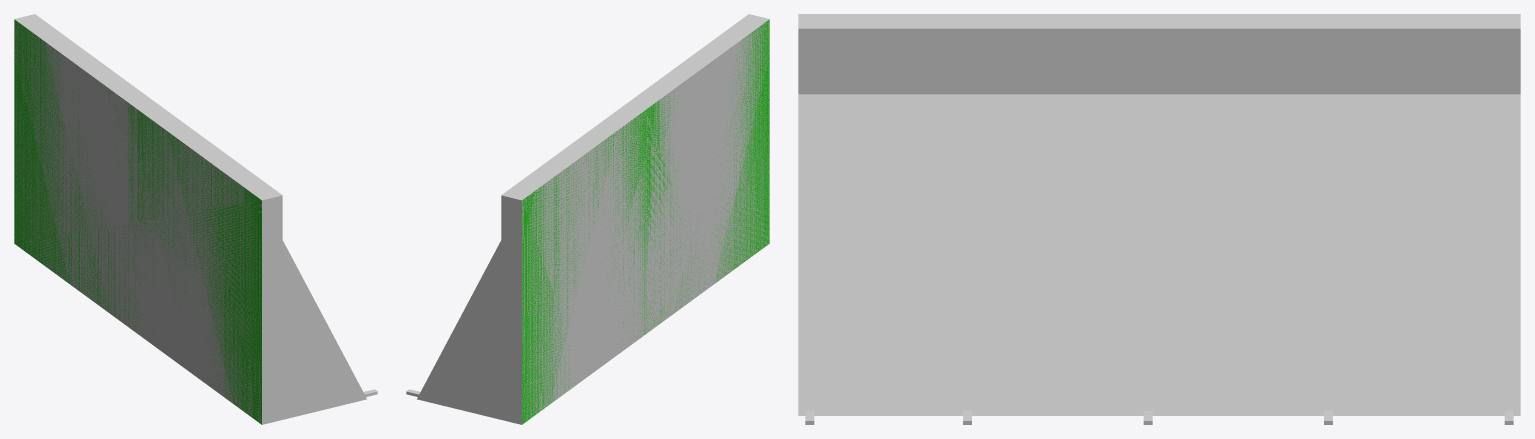
The model's file is greenscreen_8x4.dae.
3 views of the same model, side by side, from view 1: azimuth 30°, elevation 25°; view 2: azimuth 150°, elevation 25°; view 3: azimuth 270°, elevation 25° (orthographic). The views are drawn at different scales.
Parts seen in each view (by area): view 1: Colmesh-1, greenscreen_8x4_a200, greenscreen_8x4_a050; view 2: Colmesh-1, greenscreen_8x4_a200, greenscreen_8x4_a050; view 3: Colmesh-1, greenscreen_8x4_a200.
Part boxes in pixels (bbox=[...]): Colmesh-1: bbox=[14, 14, 366, 424]; greenscreen_8x4_a200: bbox=[14, 19, 377, 424]; greenscreen_8x4_a050: bbox=[14, 26, 260, 422]; Colmesh-1: bbox=[417, 14, 769, 424]; greenscreen_8x4_a200: bbox=[406, 19, 769, 424]; greenscreen_8x4_a050: bbox=[522, 116, 768, 414]; Colmesh-1: bbox=[798, 14, 1520, 415]; greenscreen_8x4_a200: bbox=[798, 14, 1519, 424].
Bounding box in the file's own units: 2.2 × 8 × 4.
